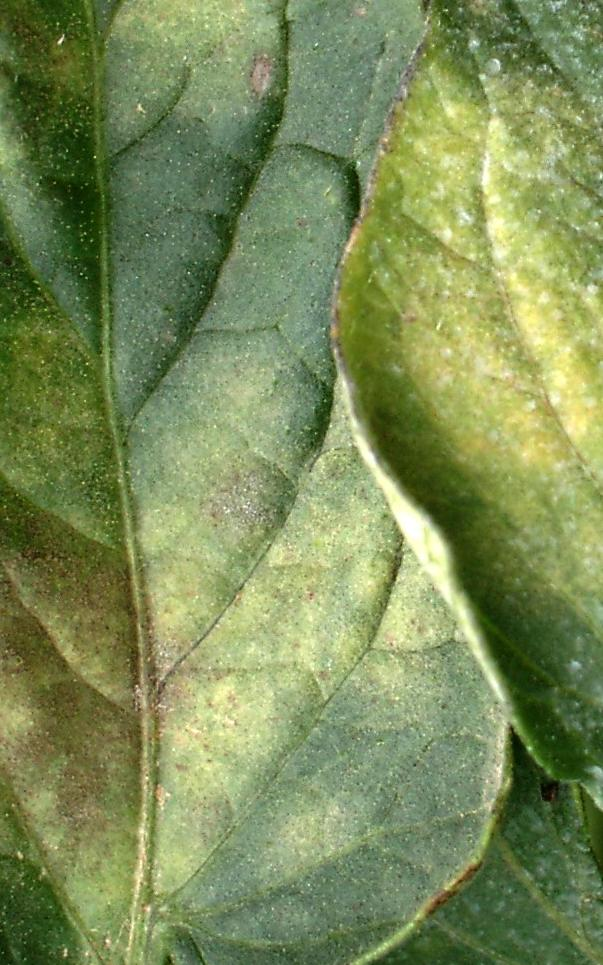Tomato mold leaf: (0, 0, 510, 965), (339, 0, 603, 910)
